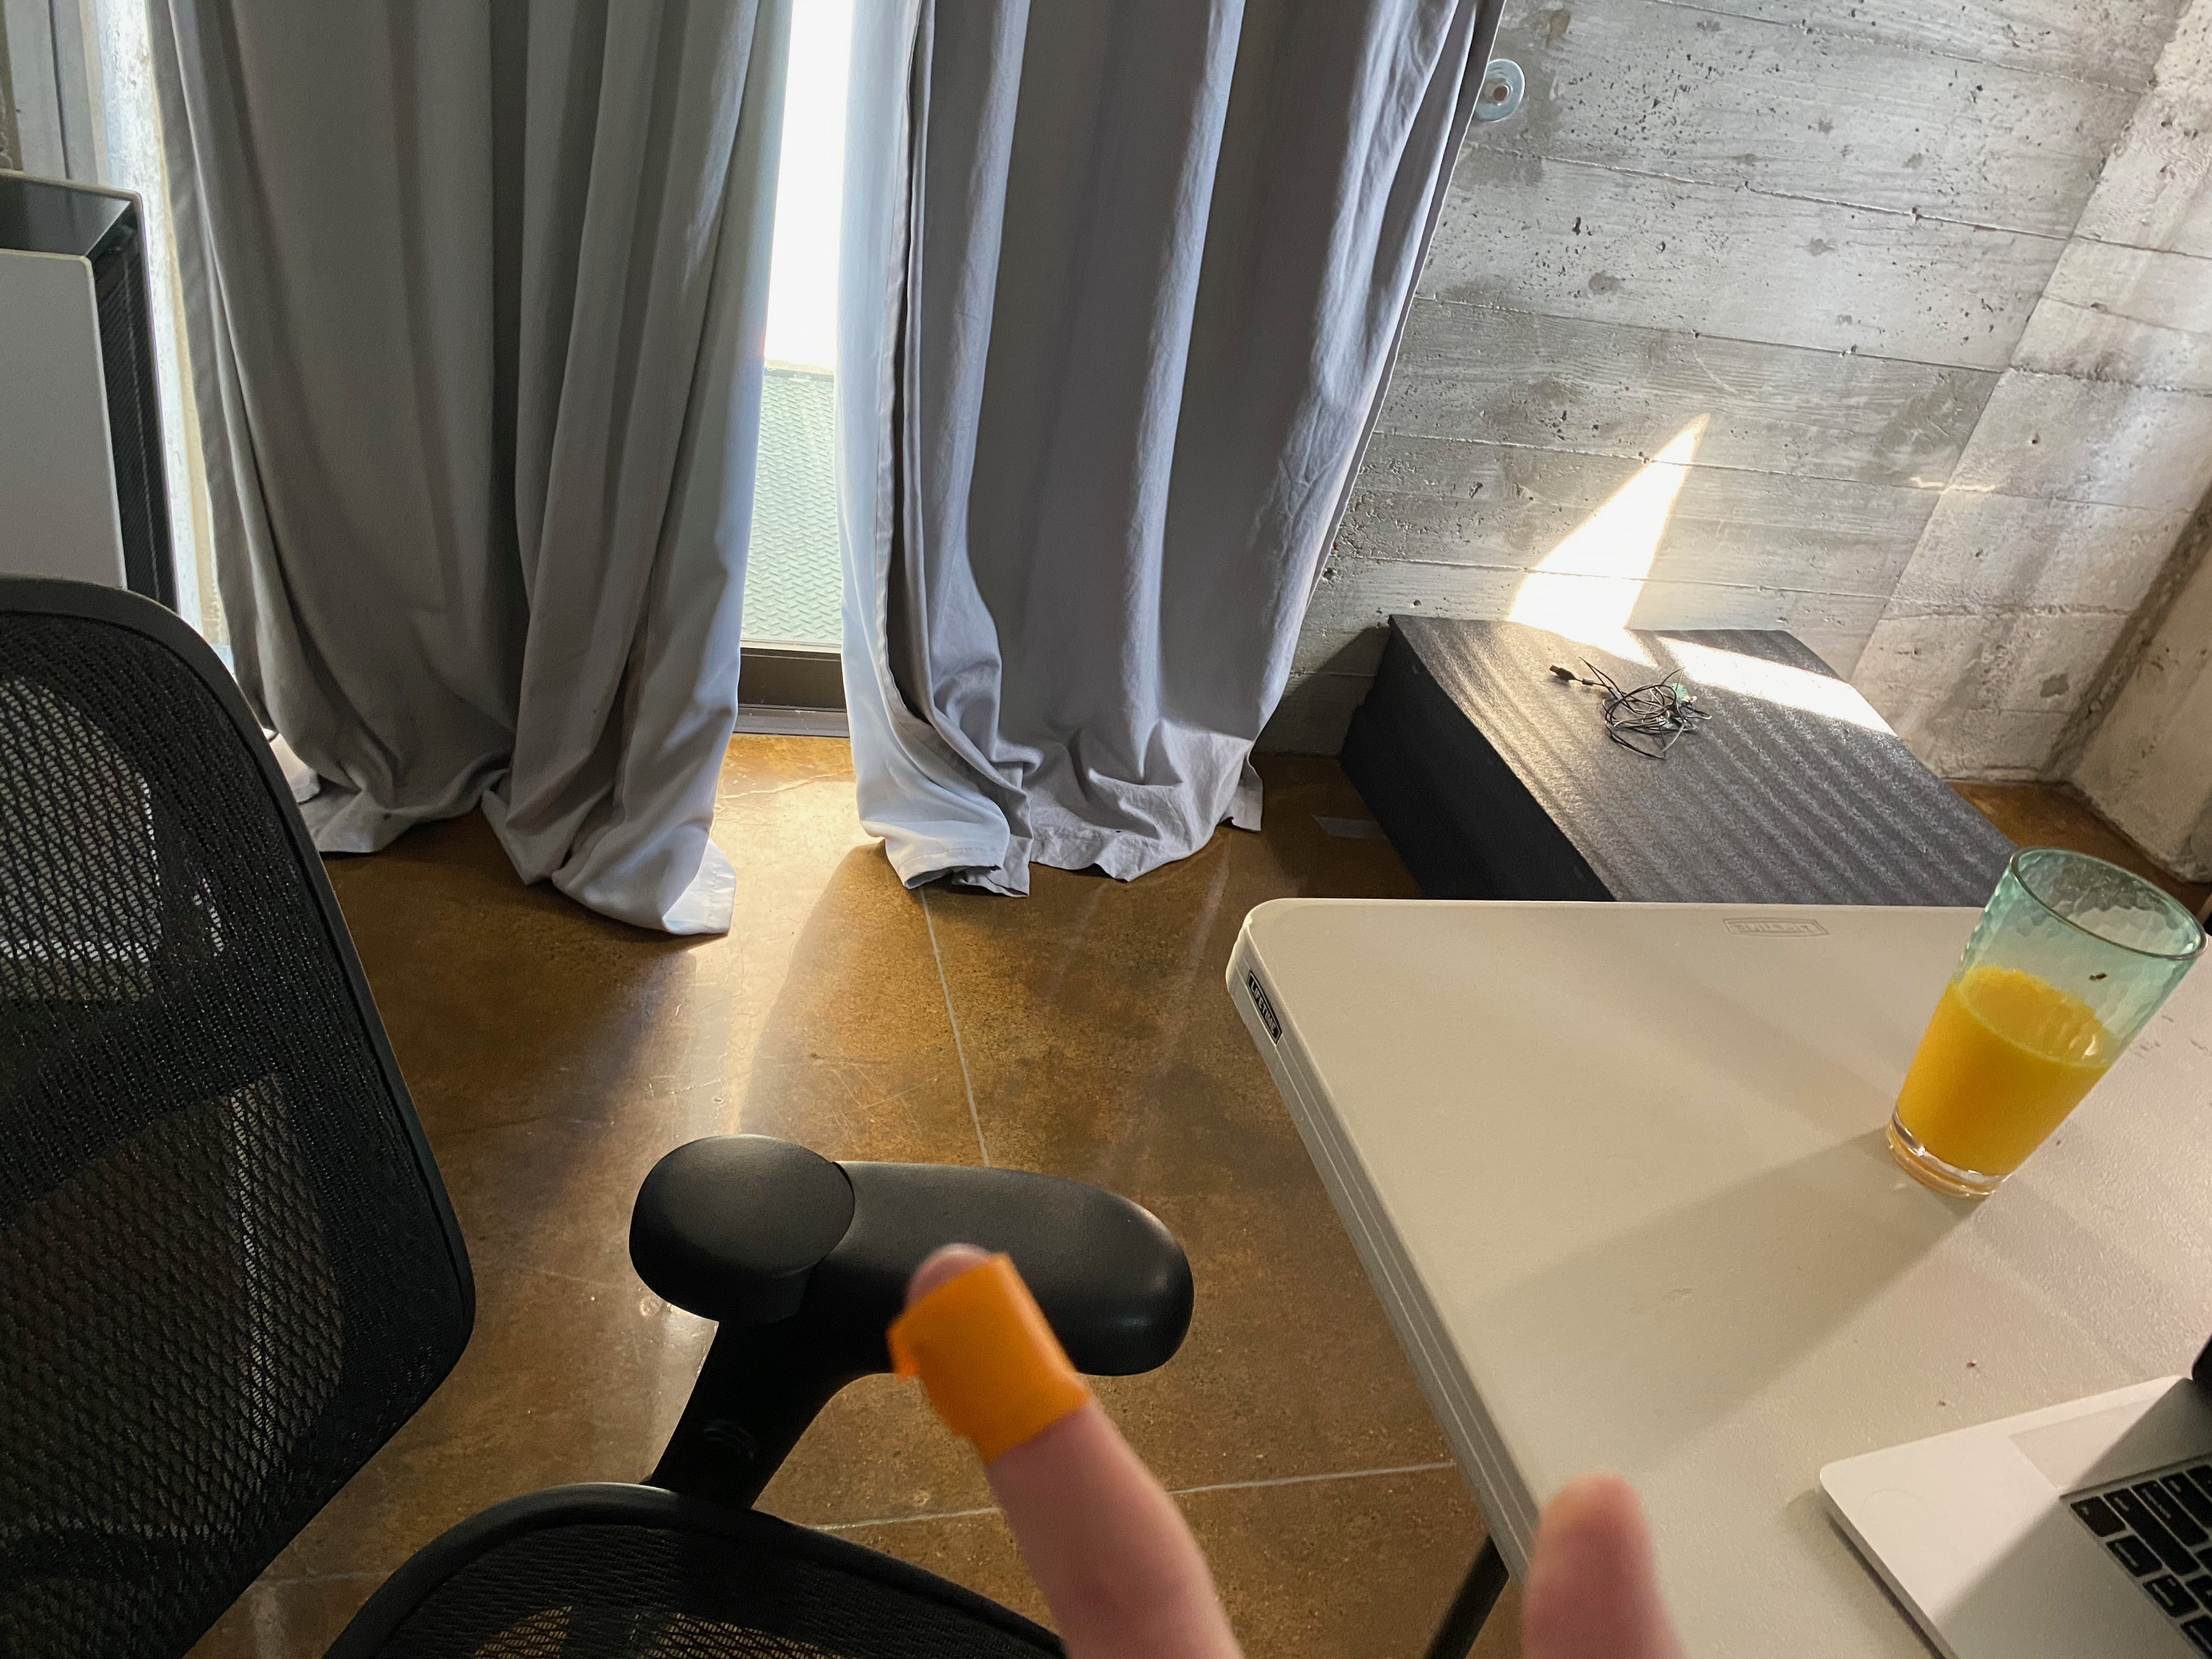fingertip: (867, 1236, 1151, 1509)
